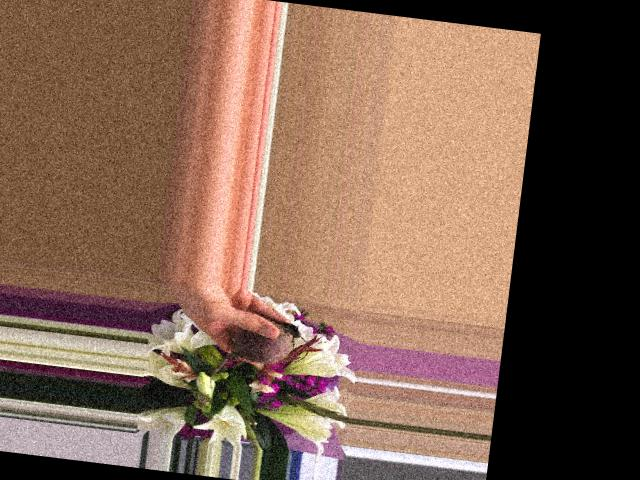beet: (209, 313, 312, 400)
